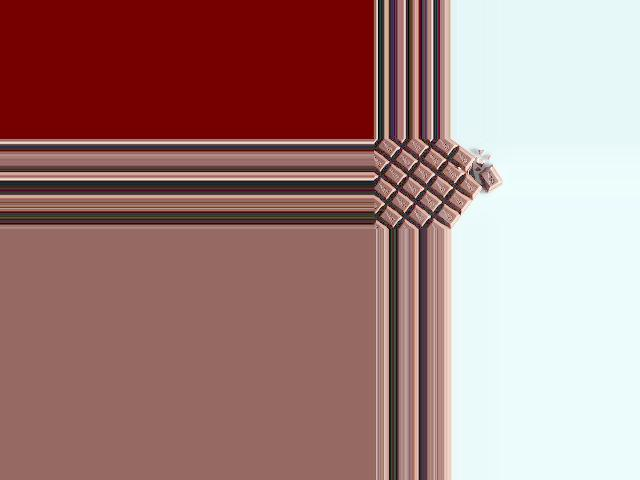chocolate: (373, 140, 489, 225)
